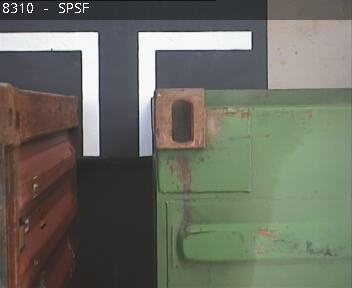groundmarker_1: (1, 32, 251, 155)
